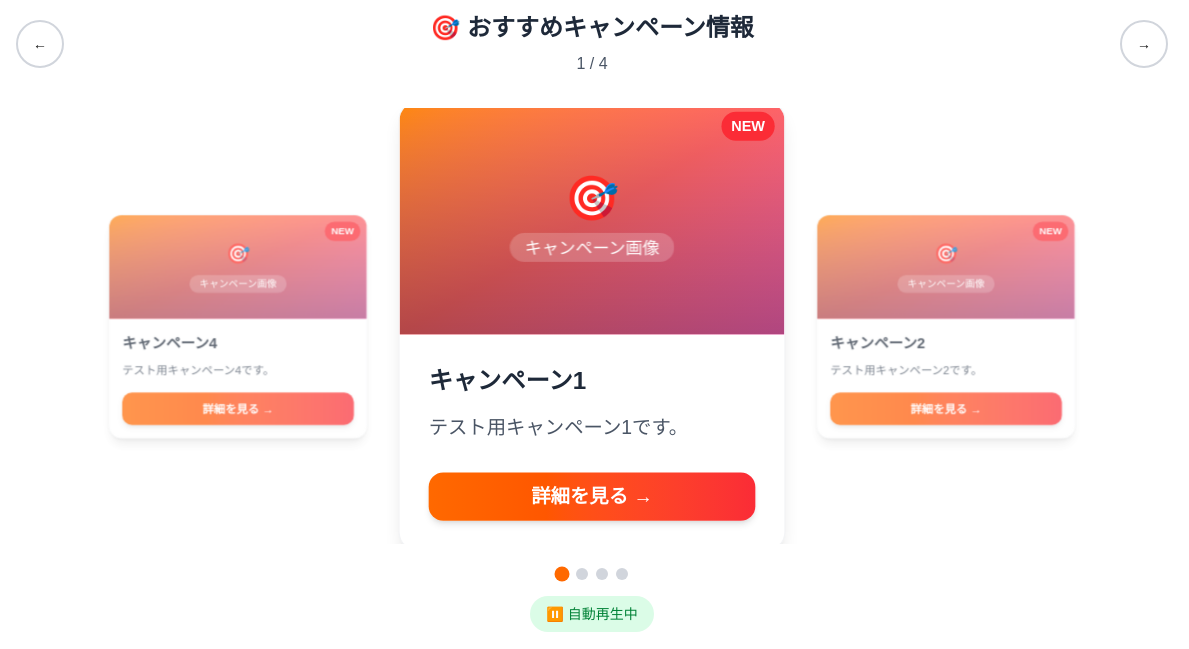
Test: CampaignCarousel コンポーネント › 最後のスライドから次へ移動すると最初のスライドに戻る
Click the button "→".
click(1144, 44)  # box [1120, 20, 1168, 68]
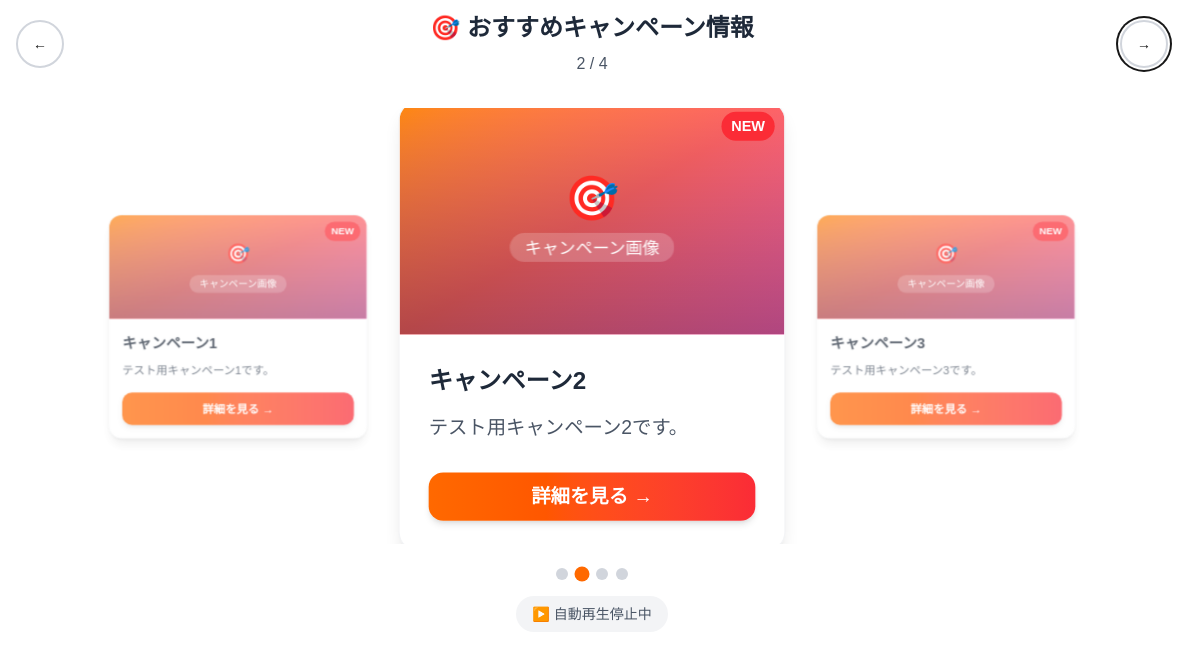
Click the button "→".
click(1144, 44)  # box [1120, 20, 1168, 68]
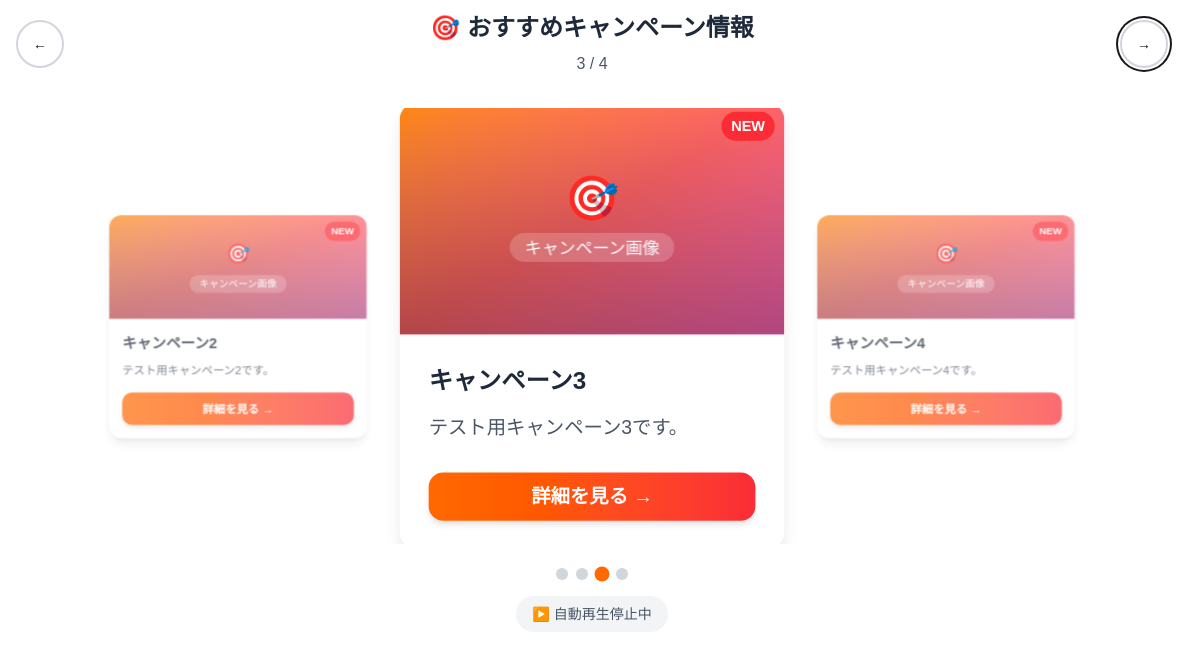
Click the button "→".
click(1144, 44)  # box [1120, 20, 1168, 68]
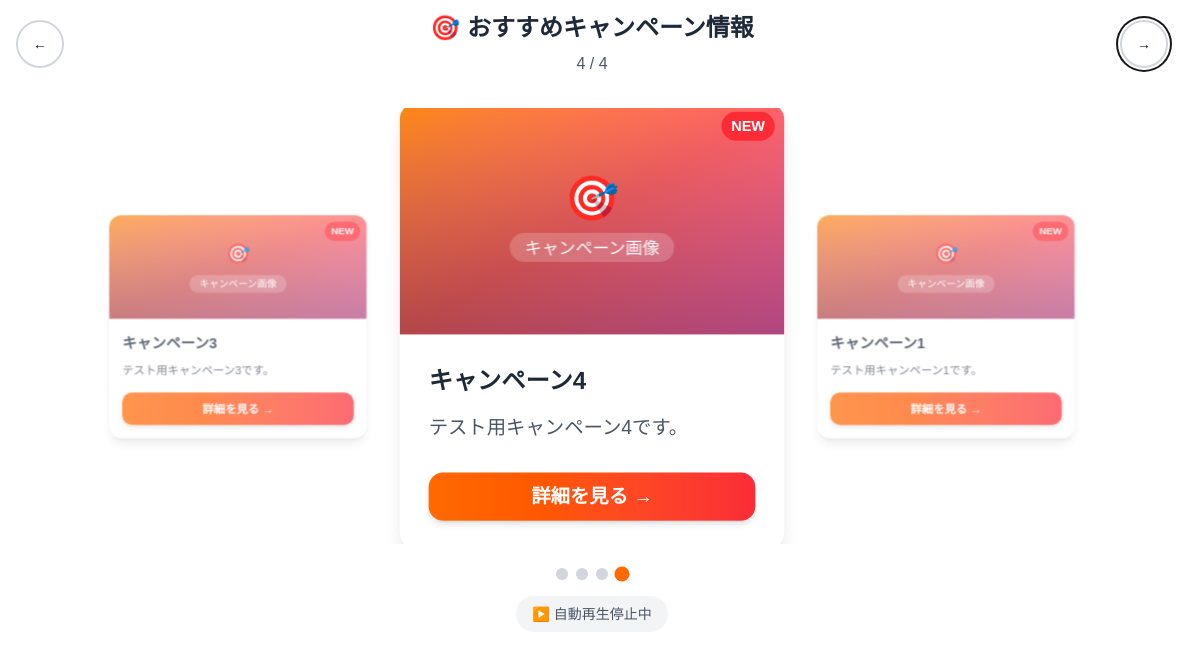
Result: the text "4 / 4" is shown at [576, 55, 608, 72]
Click the button "→".
click(1144, 44)  # box [1120, 20, 1168, 68]
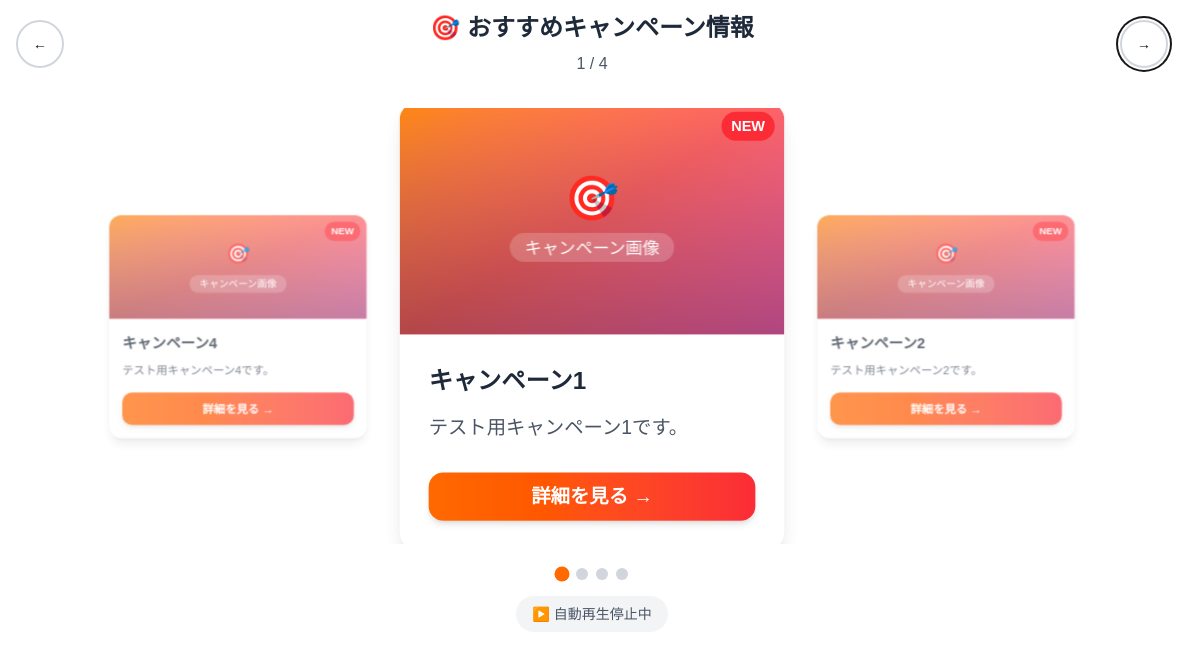
Result: the text "1 / 4" is shown at [576, 55, 608, 72]
